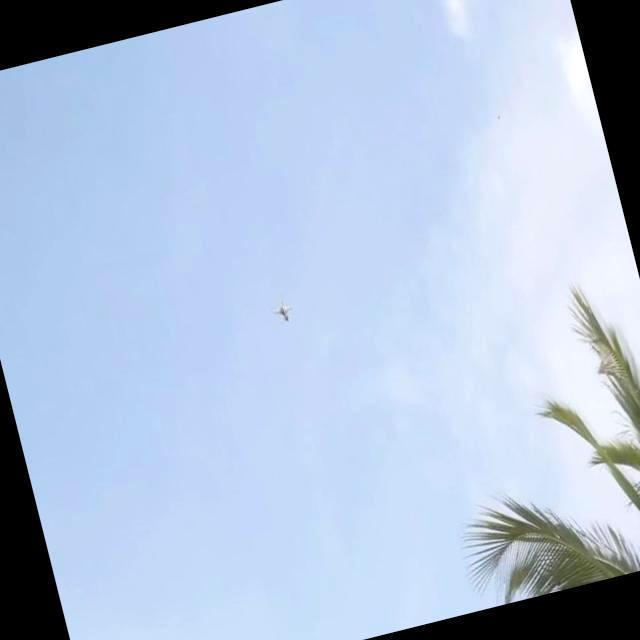drone: (272, 293, 294, 325)
